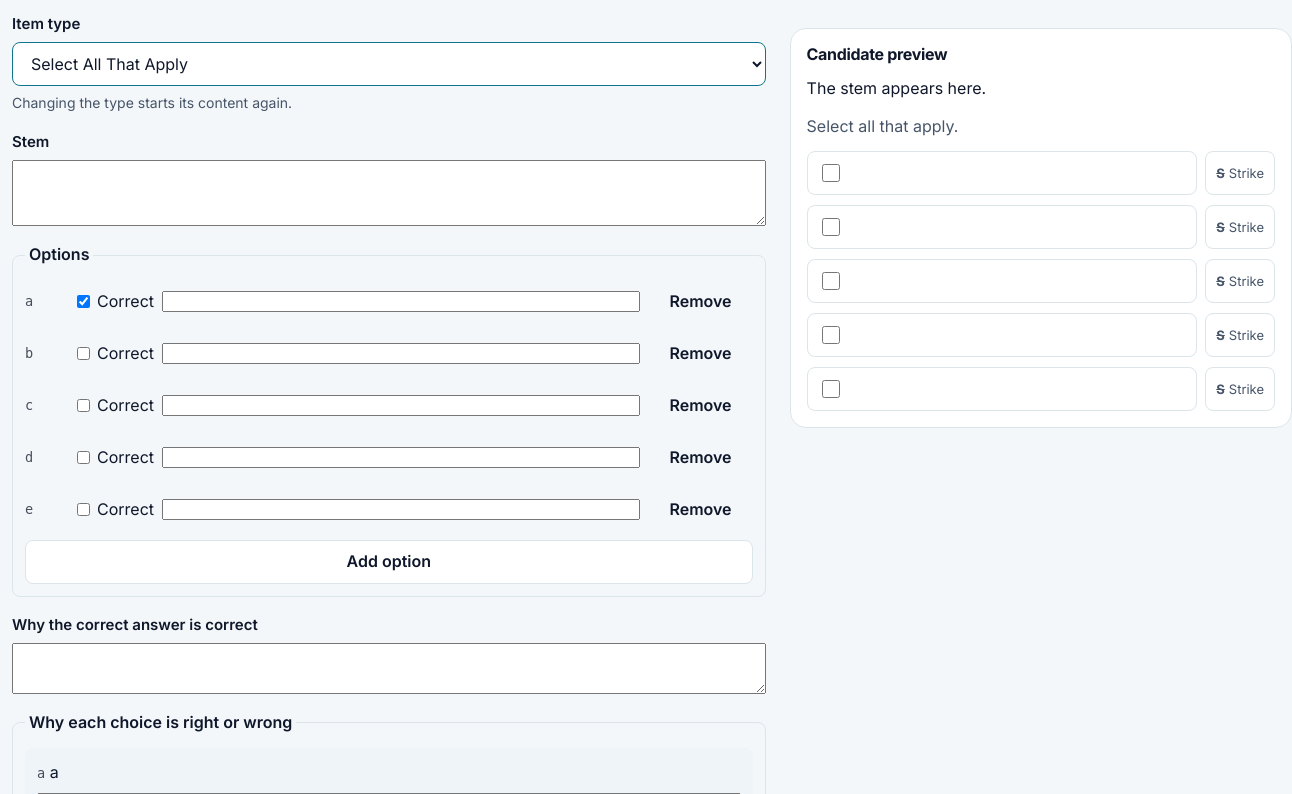
Test: DraftForm › shows the stem in the candidate preview as it is typed
This screenshot has width=1292, height=794.
Type "Which findings need follow-up?" into the text box labelled "Stem" at (389, 193), box [12,160,766,226]
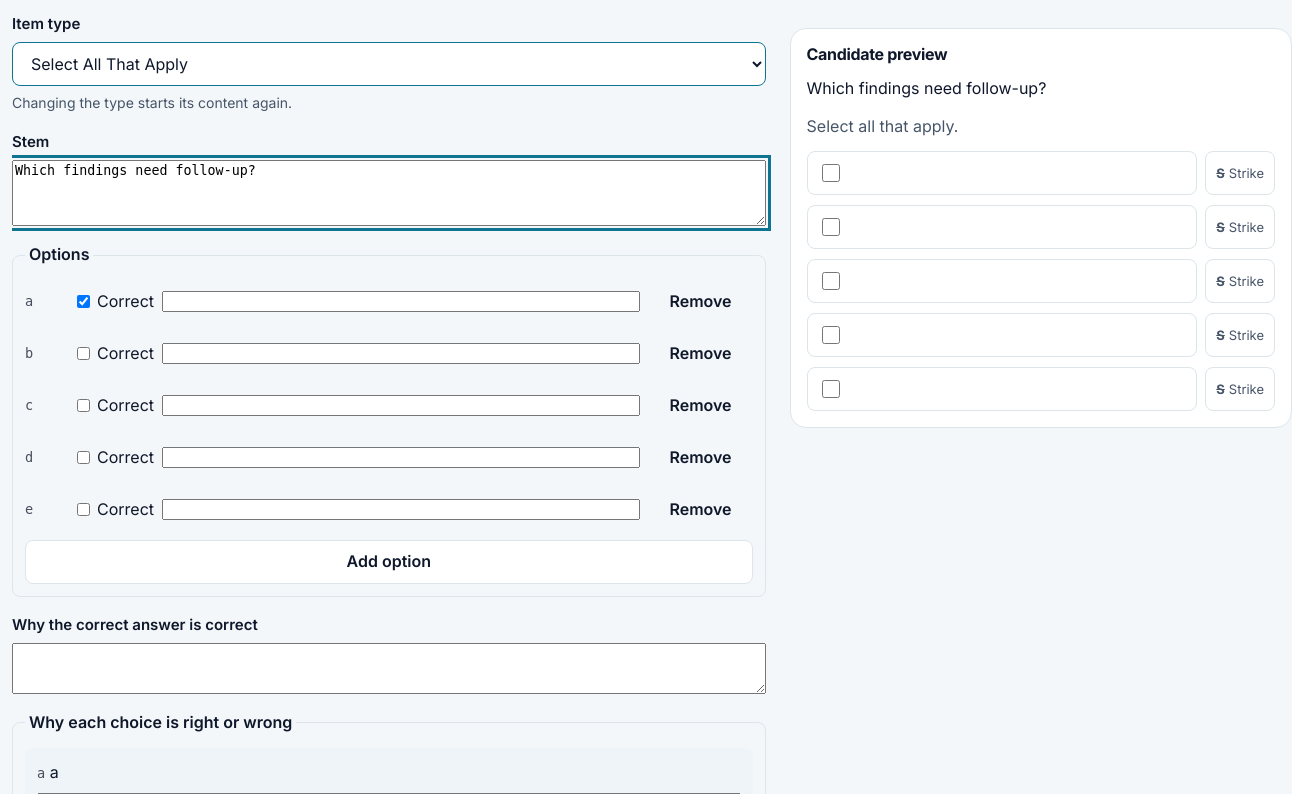
Expected: the text "Which findings need follow-up?" is shown, [807,78,1046,98]
